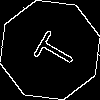T: (25, 25, 79, 74)
